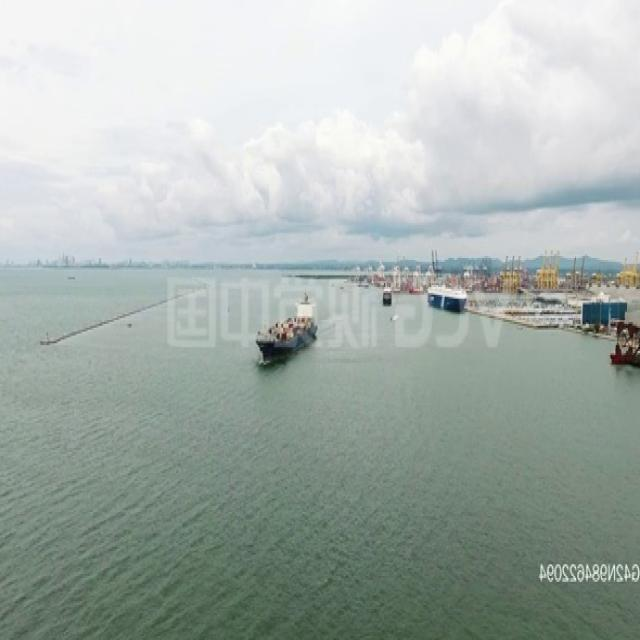cargoship: (253, 288, 323, 364)
